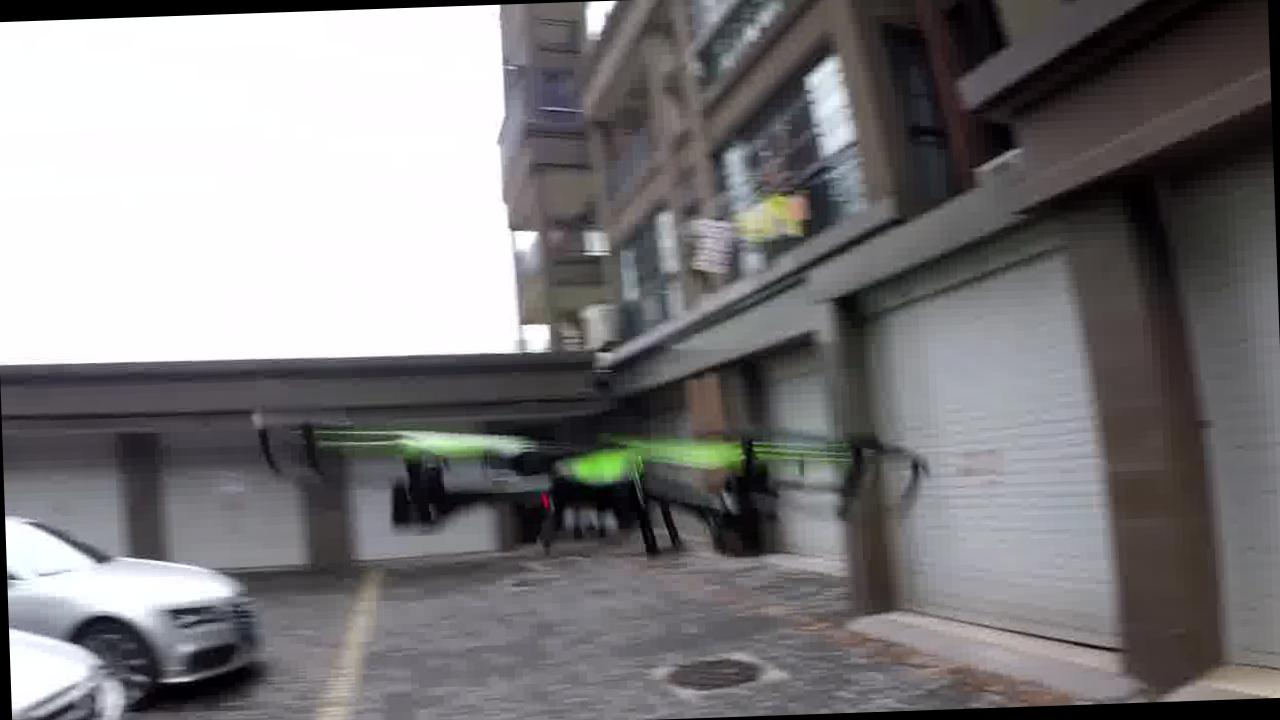drone: (253, 404, 927, 554)
